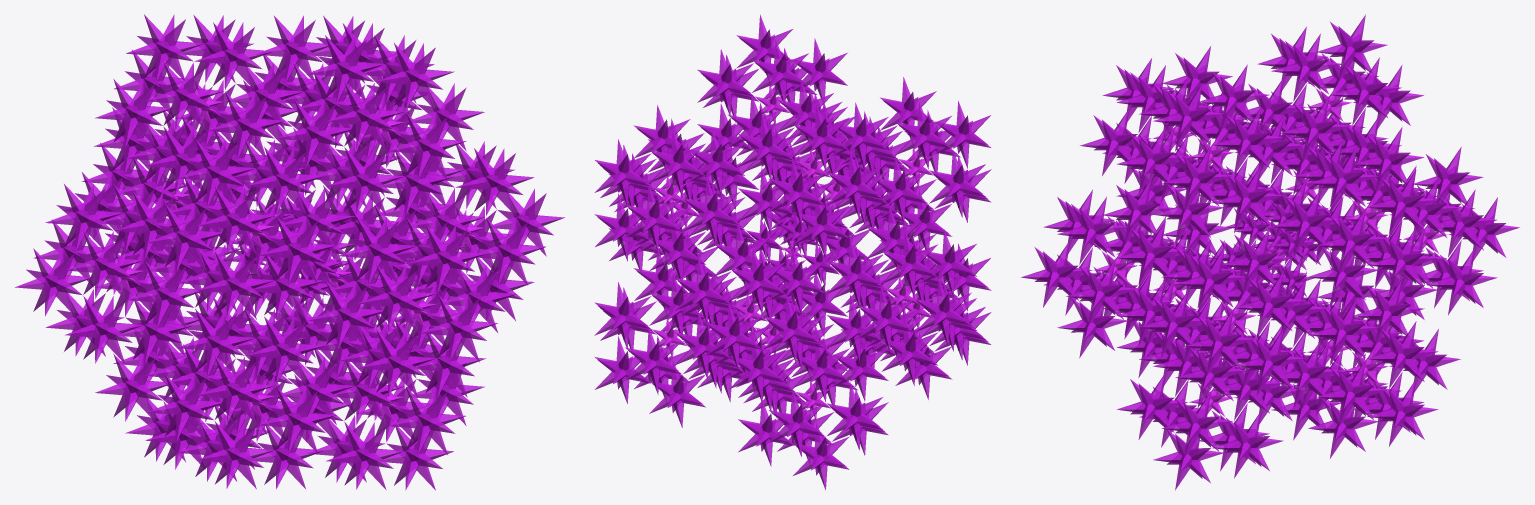
Rendered from fractalmedialtriambicicosahedron2.glb.
The picture shows the model from 3 angles, left to right: view 1: azimuth 30°, elevation 25°; view 2: azimuth 150°, elevation 25°; view 3: azimuth 270°, elevation 25°; orthographic projection. The views are drawn at different scales.
Size of the model in its own units: 11.26 by 9.84 by 11.26.
